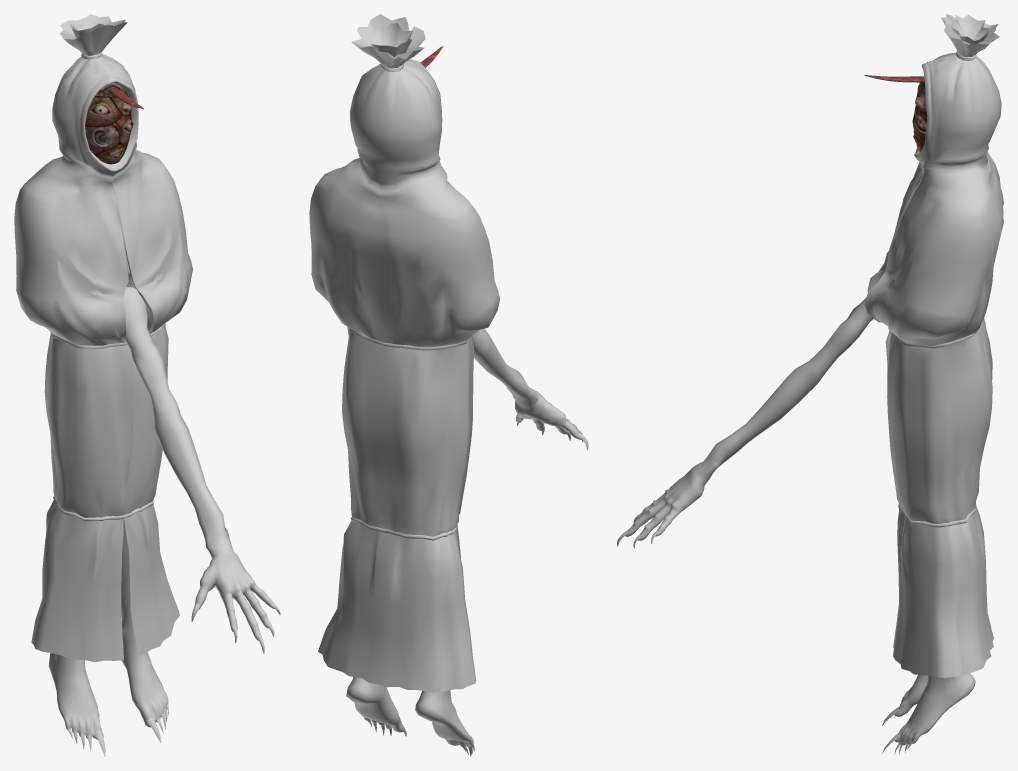
The model's file is pctest_FBX.FBX.
The picture shows the model from 3 angles, left to right: view 1: azimuth 30°, elevation 25°; view 2: azimuth 150°, elevation 25°; view 3: azimuth 270°, elevation 25°; orthographic projection. The views are drawn at different scales.
Parts seen in each view (by area): view 1: pocong; view 2: pocong; view 3: pocong.
Part boxes in pixels (left/top/right/bottom): pocong: left=14, top=14, right=280, bottom=756; pocong: left=309, top=14, right=588, bottom=756; pocong: left=617, top=14, right=1003, bottom=754.
Size of the model in its own units: 44.62 by 184 by 88.98.
